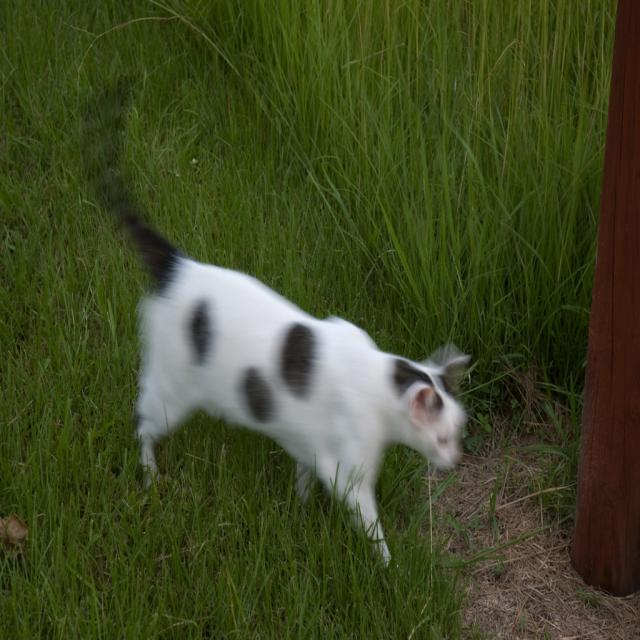Cat: (82, 74, 473, 570)
